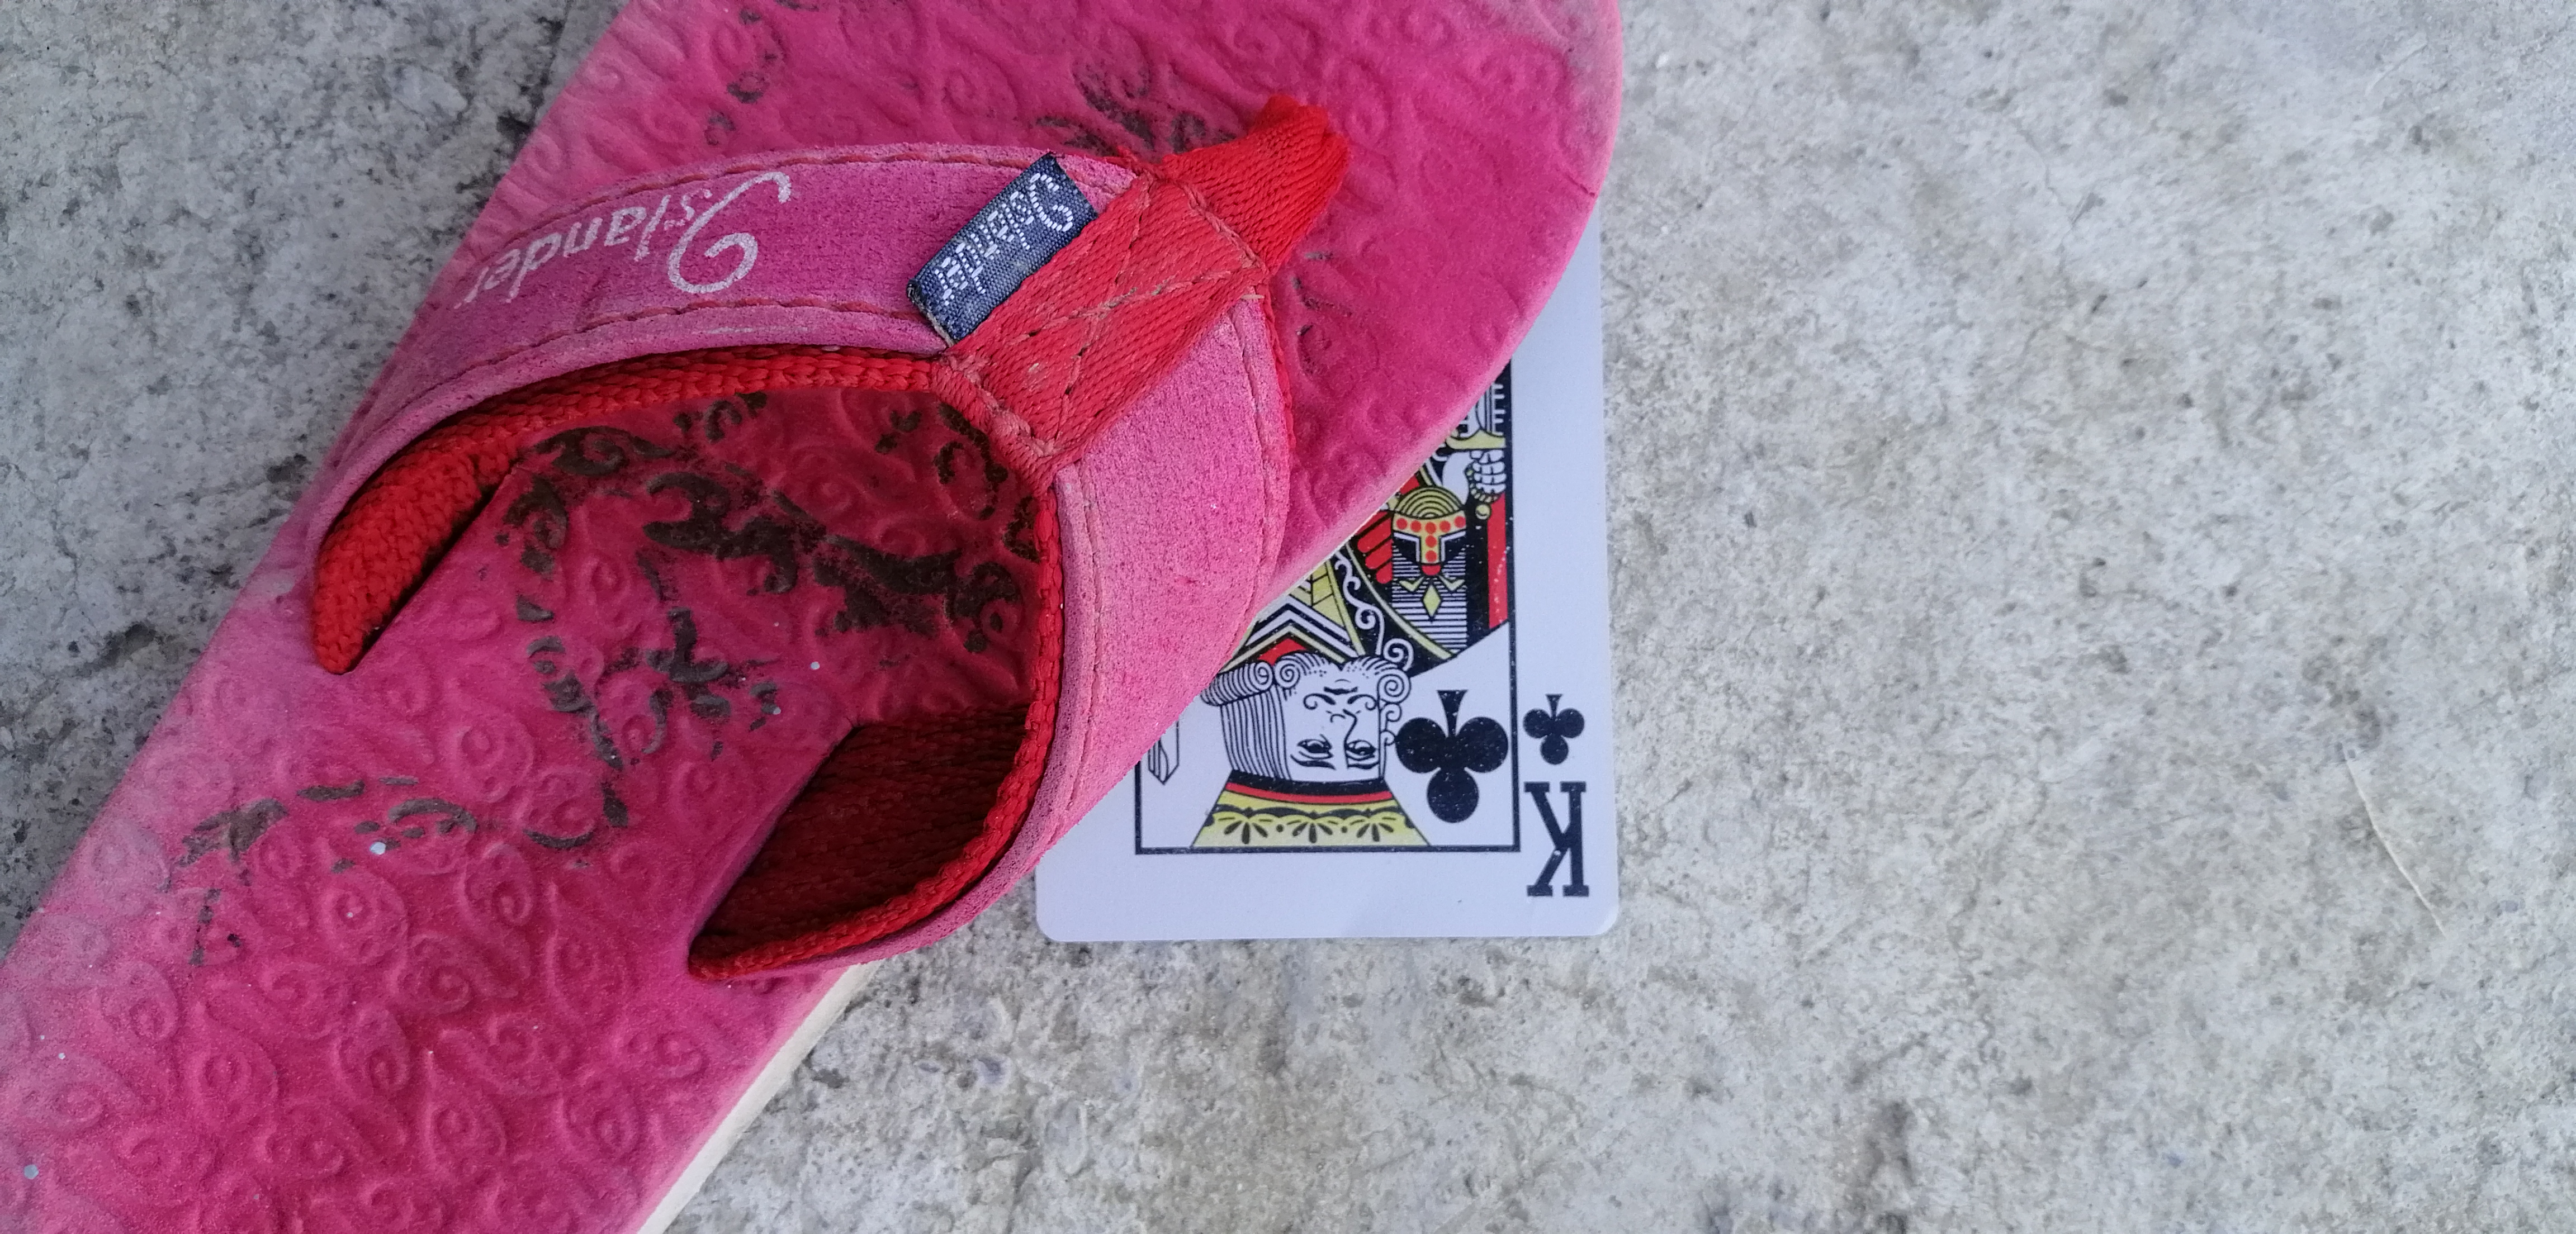king: (1005, 177, 1676, 965)
